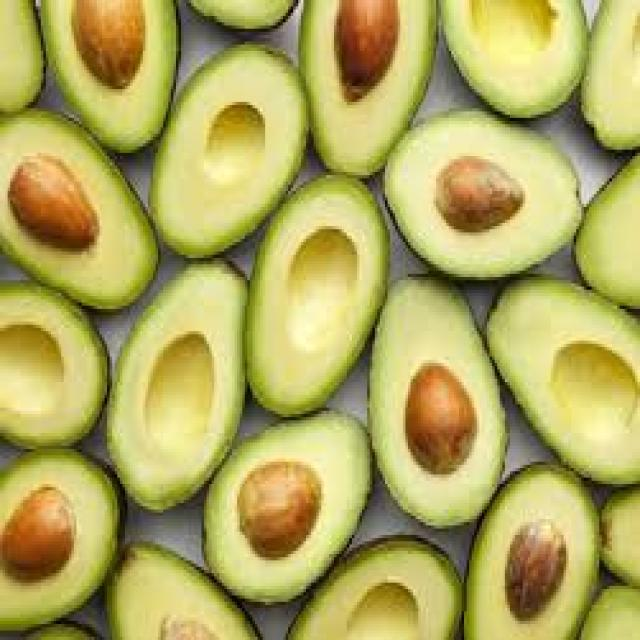avocado: (361, 263, 537, 515), (197, 386, 398, 592), (0, 77, 171, 307), (102, 232, 242, 512), (394, 96, 596, 282), (257, 161, 387, 422), (486, 266, 640, 480), (152, 36, 297, 263), (1, 412, 135, 634), (298, 0, 462, 159), (465, 479, 624, 640), (0, 263, 120, 463), (285, 522, 477, 640), (101, 524, 277, 640), (53, 0, 179, 137), (471, 0, 581, 123), (569, 142, 640, 310), (587, 0, 640, 165), (0, 0, 64, 110)
